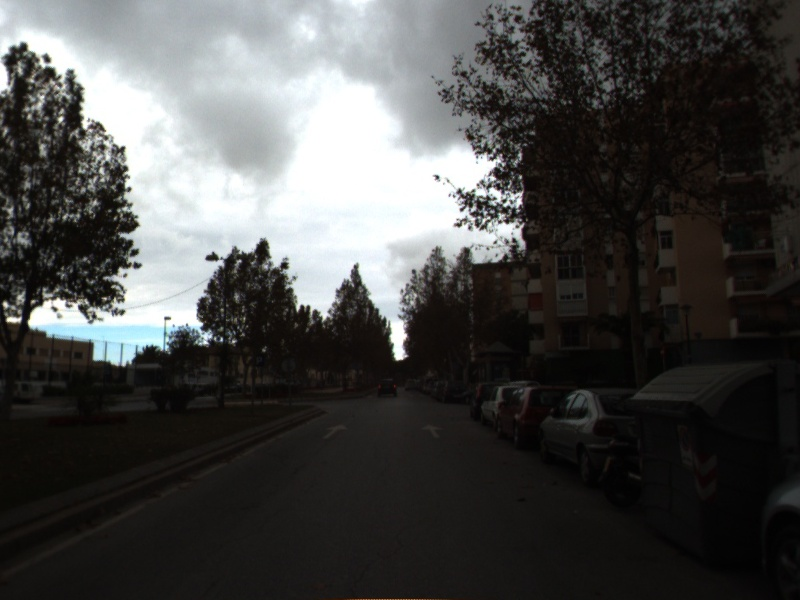STRAIGHT: (319, 422, 350, 441), (419, 422, 446, 441)
